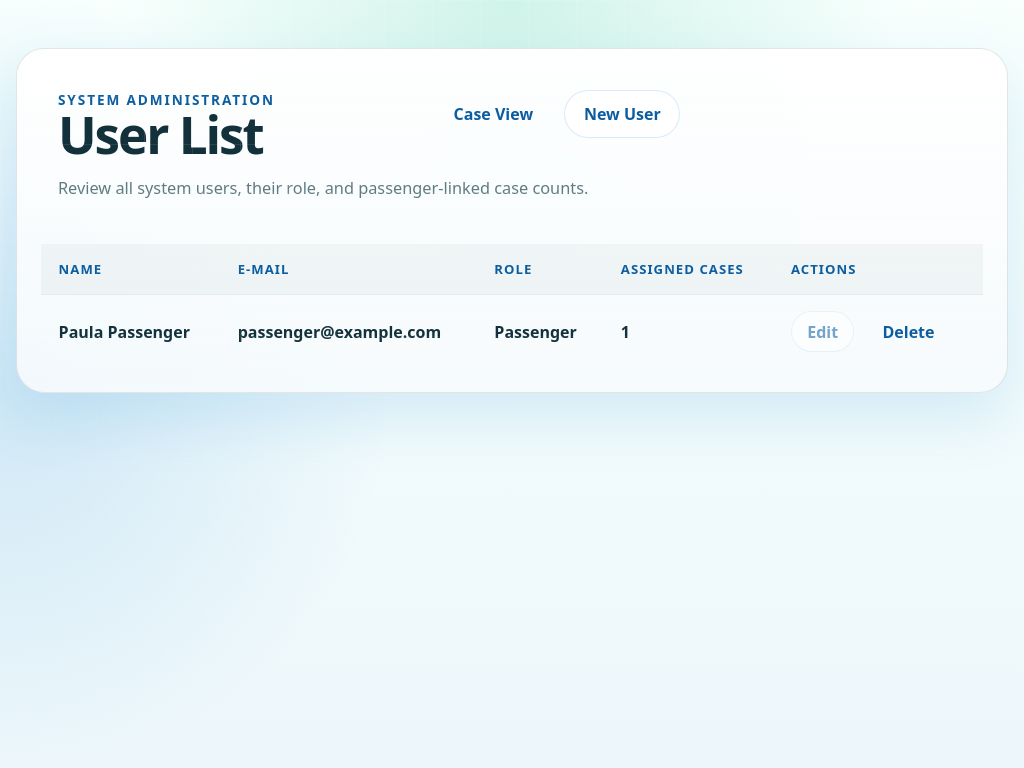
Scenario: UserListPage › renders a delete-specific access error when deletion is forbidden
Click the button with aria-label "delete passenger@example.com" at [908, 332], box [866,311,951,352]
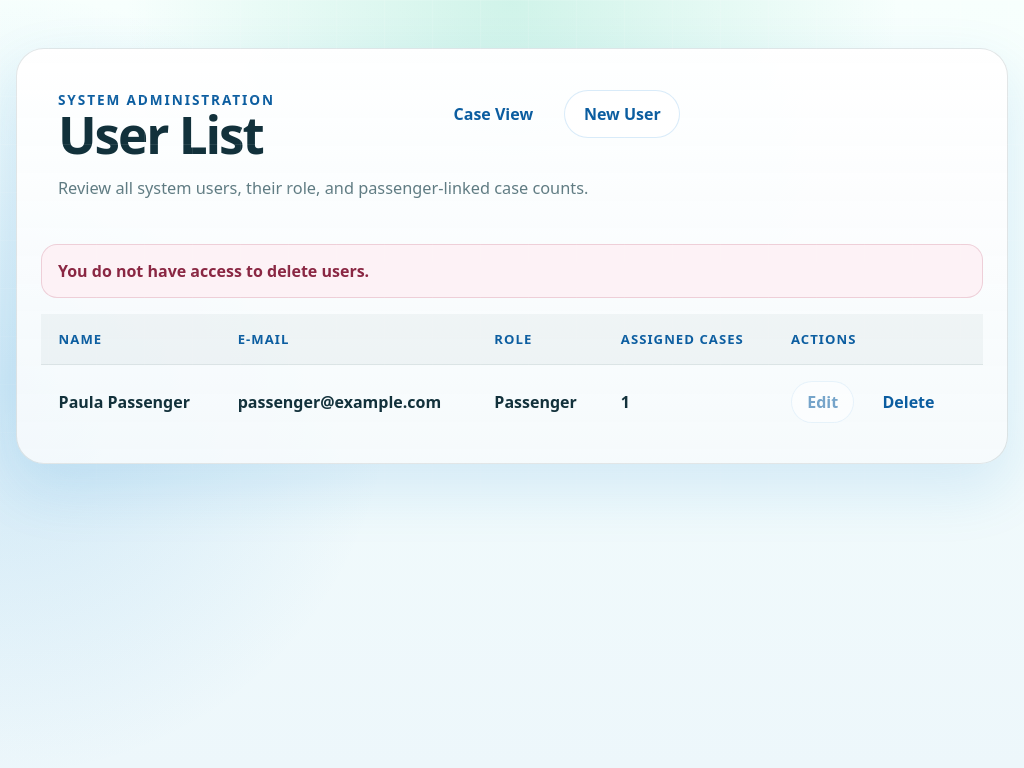
Check: the message shows "do not have access to delete users", box [58,260,369,282]
